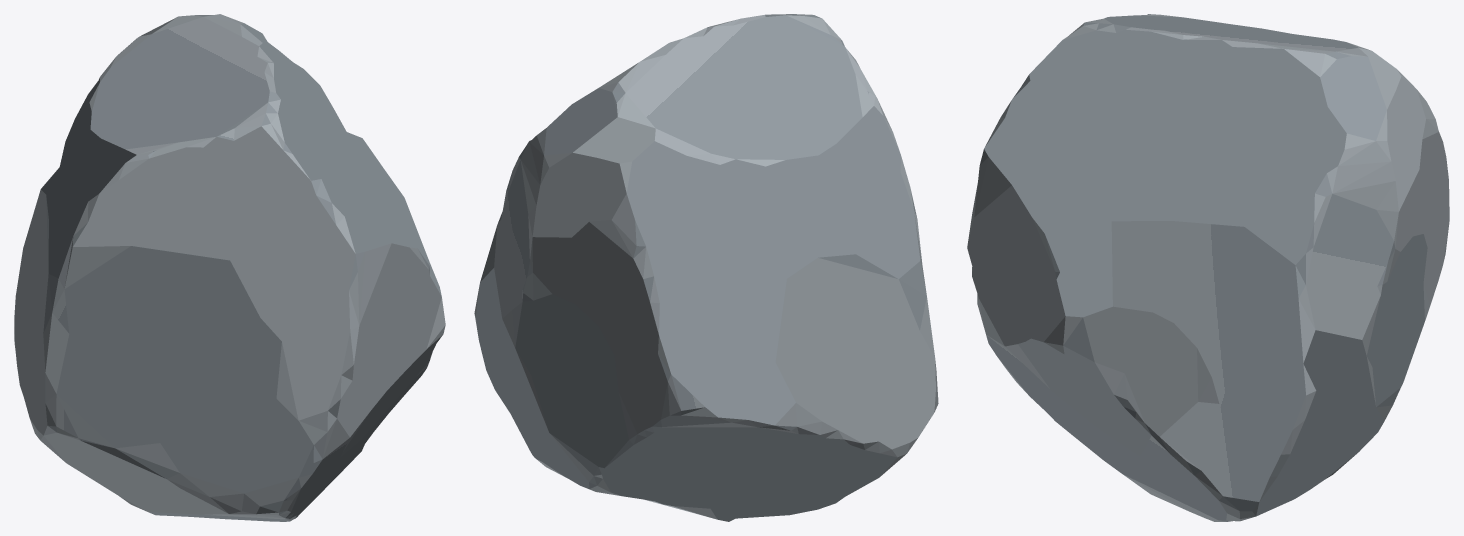
The model's file is Blokout_steen_02.fbx.
The picture shows the model from 3 angles, left to right: view 1: azimuth 30°, elevation 25°; view 2: azimuth 150°, elevation 25°; view 3: azimuth 270°, elevation 25°; orthographic projection. The views are drawn at different scales.
Parts seen in each view (by area): view 1: Cube; view 2: Cube; view 3: Cube.
Boxes of the visible parts, x1,y1,x2,y2 form: Cube: (14, 14, 445, 521); Cube: (474, 14, 938, 521); Cube: (967, 14, 1449, 521).
Size of the model in its own units: 277 by 312 by 293.
